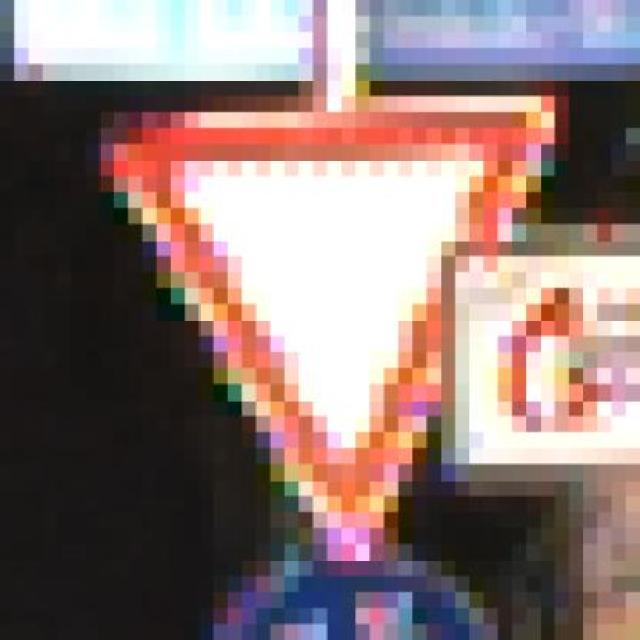Give Way: (85, 91, 569, 604)
